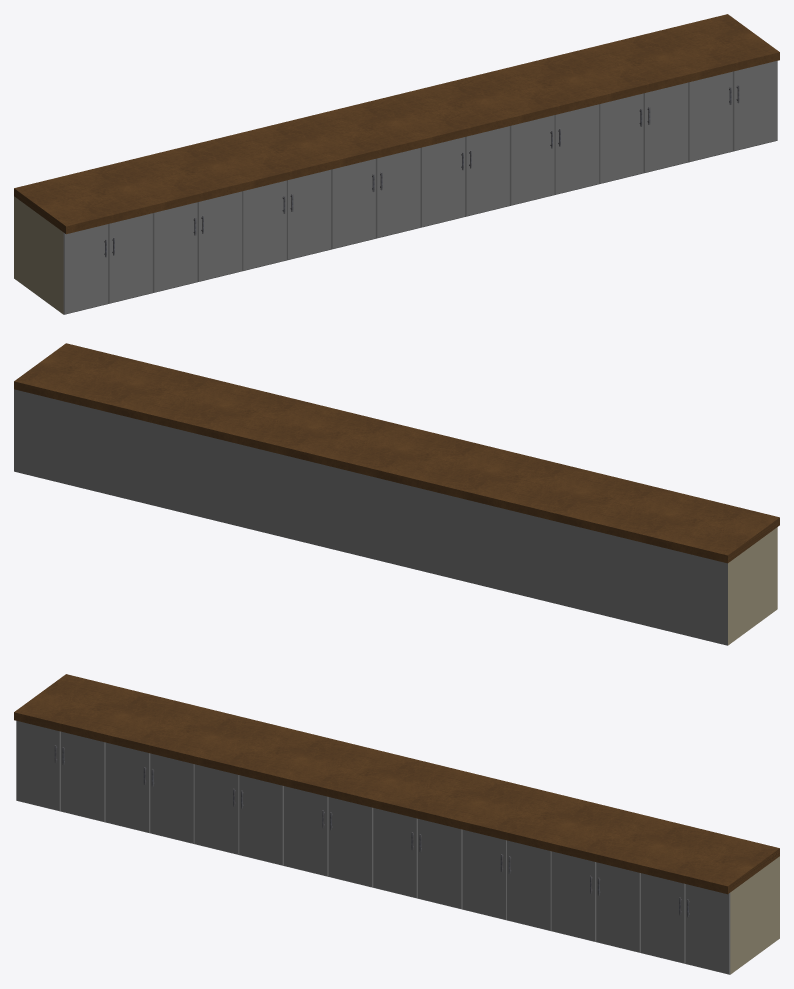
Rendered from HeistConsoleDesk.fbx.
3 views of the same model, one above another, from view 1: azimuth 30°, elevation 25°; view 2: azimuth 150°, elevation 25°; view 3: azimuth 330°, elevation 25° (orthographic).
Parts seen in each view (by area): view 1: HeistConsoleDesk; view 2: HeistConsoleDesk; view 3: HeistConsoleDesk.
Part boxes in pixels (x1=…): HeistConsoleDesk: x1=14, y1=14, x2=779, y2=314; HeistConsoleDesk: x1=14, y1=343, x2=779, y2=645; HeistConsoleDesk: x1=14, y1=674, x2=779, y2=974.
Size of the model in its own units: 90.72 by 10.96 by 11.48.
4 materials, 2 textured.
